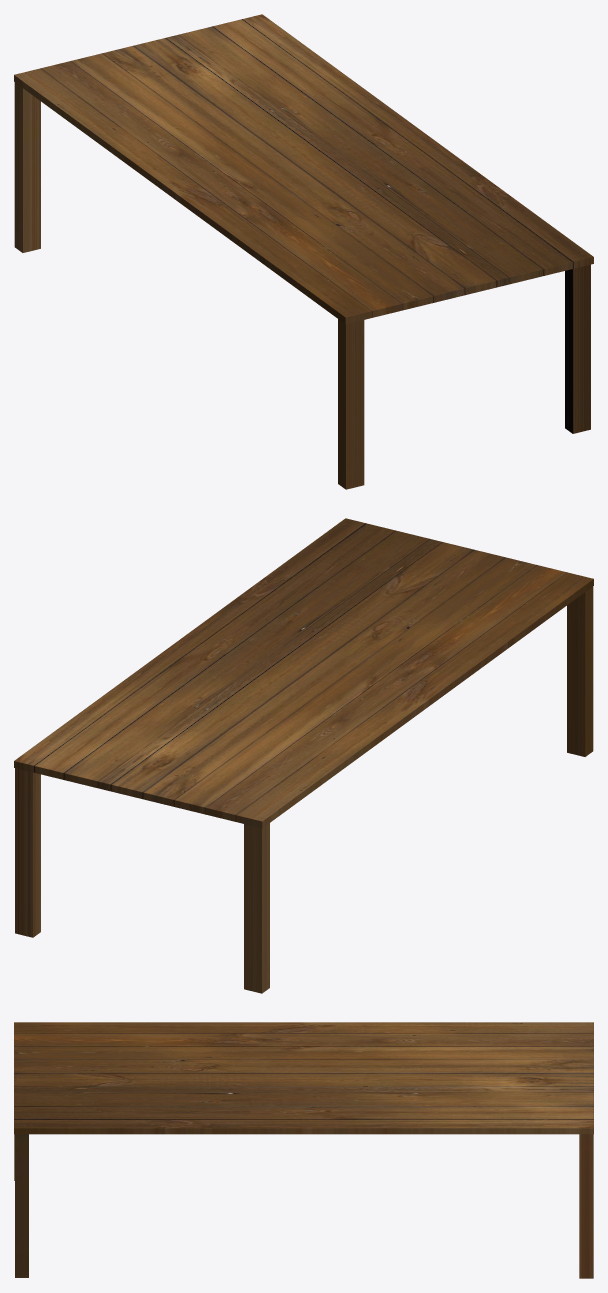
File: space-table.dae
The picture shows the model from 3 angles, top to bottom: view 1: azimuth 30°, elevation 25°; view 2: azimuth 150°, elevation 25°; view 3: azimuth 270°, elevation 25°; orthographic projection. The views are drawn at different scales.
Parts seen in each view (by area): view 1: Cube_004; view 2: Cube_004; view 3: Cube_004.
Part boxes in pixels (x1,y1,x2,y2): Cube_004: [14, 14, 593, 489]; Cube_004: [14, 518, 593, 993]; Cube_004: [14, 1022, 593, 1278].
Bounding box in the file's own units: 1.25 × 2.88 × 0.8273.
1 material, 1 textured.
